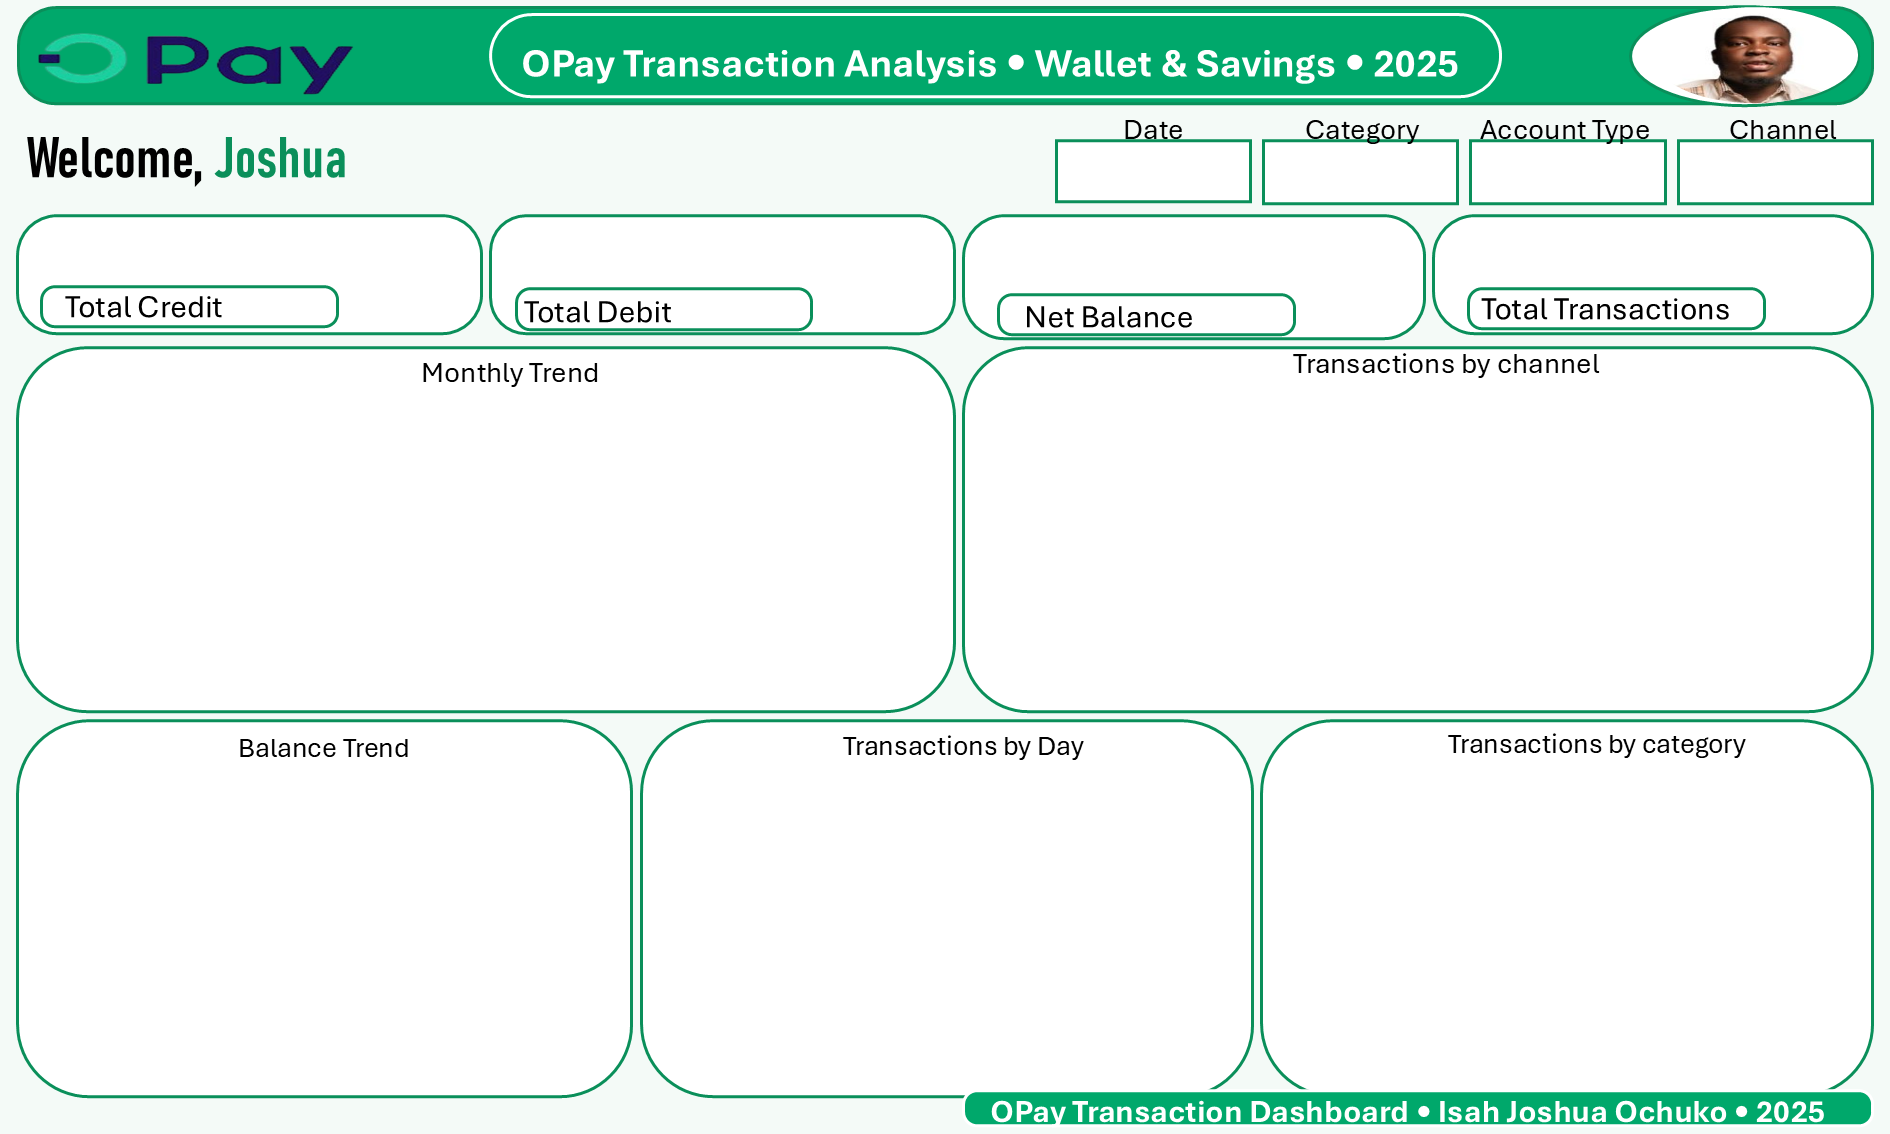

The page's visual inventory and layout, read from the dashboard file:
{"tool":"powerbi","page":{"name":"Page 3","canvas":[1280,720],"ordinal":0},"visuals":[{"type":"card","fields":{"Values":["All_Transactions.Total Credit"]},"box":[0,128,240,64],"z":0},{"type":"card","fields":{"Values":["All_Transactions.Total Debit"]},"box":[304,112,272,96],"z":1000},{"type":"card","fields":{"Values":["All_Transactions.Net Flow"]},"box":[624,112,240,96],"z":2000},{"type":"card","fields":{"Values":["All_Transactions.Total Transaction Value"]},"box":[976,112,240,96],"z":3000},{"type":"slicer","fields":{"Values":["All_Transactions.Transaction_Type"]},"box":[1136,80,138,48],"z":4000},{"type":"slicer","fields":{"Values":["All_Transactions.Account_Type"]},"box":[992,80,145,48],"z":5000},{"type":"slicer","fields":{"Values":["All_Transactions.Category"]},"box":[848,80,145,48],"z":6000},{"type":"slicer","fields":{"Values":["All_Transactions.Value_Date"]},"box":[704,80,149,48],"z":7000},{"type":"donutChart","fields":{"Category":["All_Transactions.Category"],"Y":["All_Transactions.Transaction Count"]},"box":[848,448,432,256],"z":8000},{"type":"lineChart","fields":{"Y":["Max(All_Transactions.Balance_After_NGN)"],"Category":["DateTable.Date"]},"box":[656,192,624,256],"z":9000},{"type":"clusteredColumnChart","fields":{"Category":["DateTable.Month"],"Y":["All_Transactions.Total Credit","All_Transactions.Total Debit"]},"box":[0,224,672,224],"z":10000},{"type":"clusteredColumnChart","fields":{"Category":["DateTable.Day_Short"],"Y":["All_Transactions.Transaction Count"]},"box":[432,448,432,256],"z":11000},{"type":"clusteredBarChart","fields":{"Category":["All_Transactions.Channel"],"Y":["All_Transactions.Transaction Count"]},"box":[16,448,416,272],"z":12000},{"type":"shape","box":[80,464,304,32],"z":13000},{"type":"shape","box":[816,224,304,16],"z":14000},{"type":"textbox","box":[768,224,320,48],"z":15000},{"type":"textbox","box":[64,464,320,32],"z":16000}]}

Visuals, with their boxes in screenshot pixels (x1, y1, x2, y2):
card - All_Transactions.Total Credit: (left=5, top=241, right=354, bottom=334)
card - All_Transactions.Total Debit: (left=448, top=217, right=844, bottom=357)
card - All_Transactions.Net Flow: (left=914, top=217, right=1263, bottom=357)
card - All_Transactions.Total Transaction Value: (left=1426, top=217, right=1776, bottom=357)
slicer - All_Transactions.Transaction_Type: (left=1659, top=171, right=1860, bottom=241)
slicer - All_Transactions.Account_Type: (left=1449, top=171, right=1661, bottom=241)
slicer - All_Transactions.Category: (left=1240, top=171, right=1451, bottom=241)
slicer - All_Transactions.Value_Date: (left=1030, top=171, right=1247, bottom=241)
donutChart - All_Transactions.Category x All_Transactions.Transaction Count: (left=1240, top=706, right=1869, bottom=1079)
lineChart - Max(All_Transactions.Balance_After_NGN) x DateTable.Date: (left=960, top=334, right=1869, bottom=706)
clusteredColumnChart - DateTable.Month x All_Transactions.Total Credit: (left=5, top=380, right=983, bottom=706)
clusteredColumnChart - DateTable.Day_Short x All_Transactions.Transaction Count: (left=634, top=706, right=1263, bottom=1079)
clusteredBarChart - All_Transactions.Channel x All_Transactions.Transaction Count: (left=28, top=706, right=634, bottom=1103)
shape: (left=121, top=730, right=564, bottom=776)
shape: (left=1193, top=380, right=1636, bottom=404)
textbox: (left=1123, top=380, right=1589, bottom=450)
textbox: (left=98, top=730, right=564, bottom=776)
